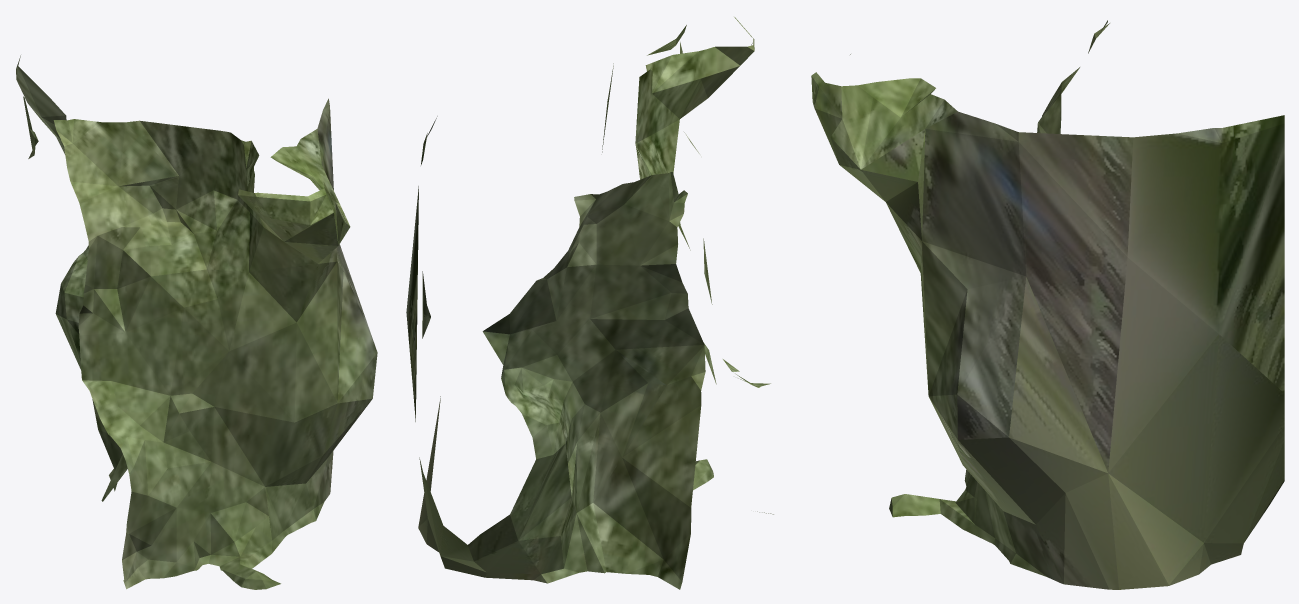
3 renders of one model, left to right at view 1: azimuth 30°, elevation 25°; view 2: azimuth 150°, elevation 25°; view 3: azimuth 270°, elevation 25°, orthographic. The views are drawn at different scales.
Size of the model in its own units: 1.96 by 2.95 by 2.87.
Materials: 4 (4 with a texture image).
